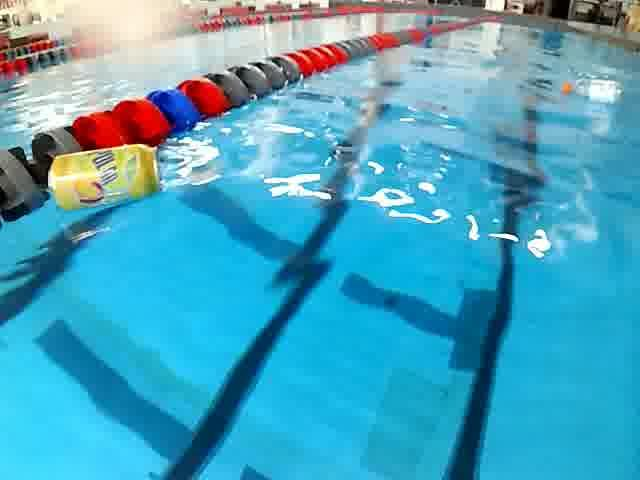Bottle: (544, 73, 628, 109)
Can: (35, 141, 163, 215)
